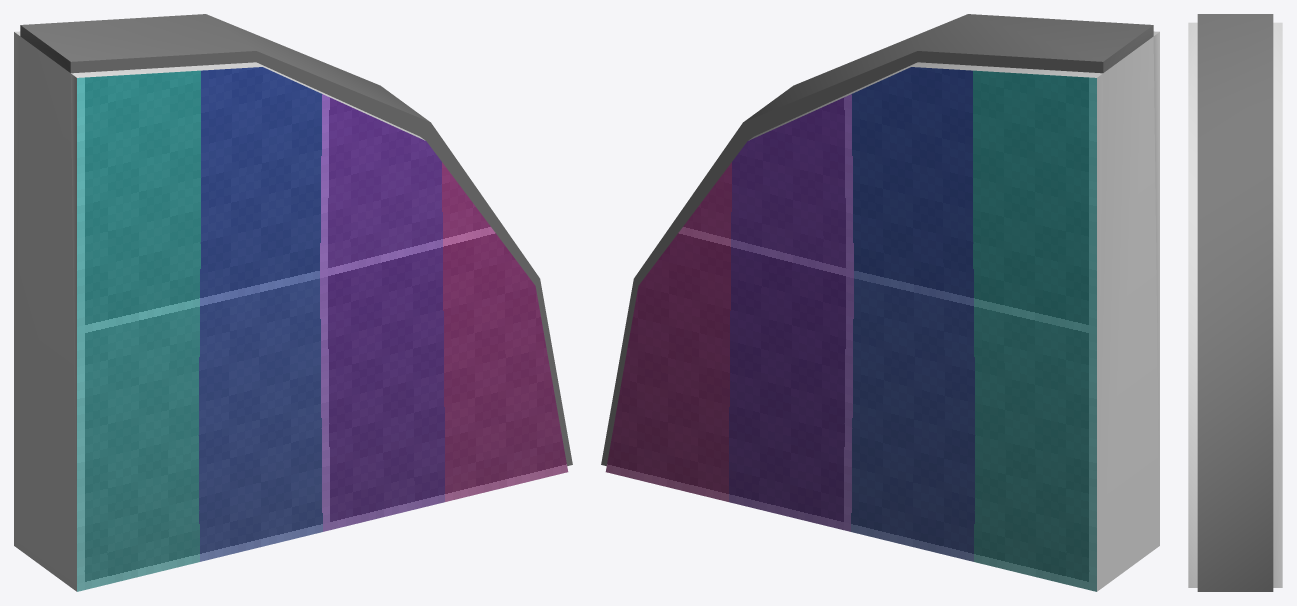
The model's file is Target_Gore.glb.
3 renders of one model, left to right at view 1: azimuth 30°, elevation 25°; view 2: azimuth 150°, elevation 25°; view 3: azimuth 270°, elevation 25°, orthographic. The views are drawn at different scales.
Visible parts, largest first — view 1: CSGCylinder3D2; view 2: CSGCylinder3D2; view 3: CSGCylinder3D2.
Part boxes in pixels (bbox=[...]): CSGCylinder3D2: bbox=[14, 14, 572, 591]; CSGCylinder3D2: bbox=[601, 14, 1159, 591]; CSGCylinder3D2: bbox=[1188, 14, 1282, 591].
Bounding box in the file's own units: 0.46 × 0.46 × 0.1.
3 materials, 1 textured.
